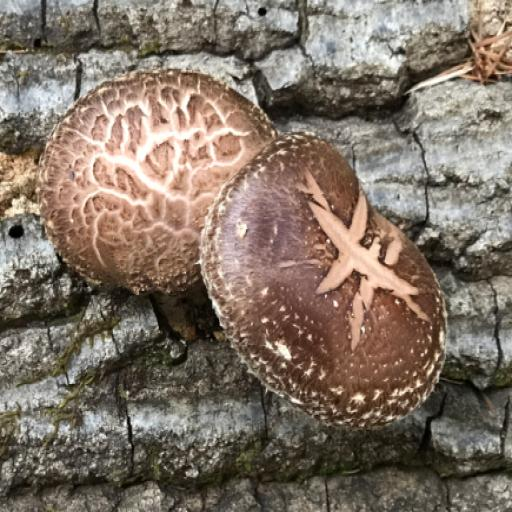Shiitake Mushroom: (34, 56, 465, 437)
